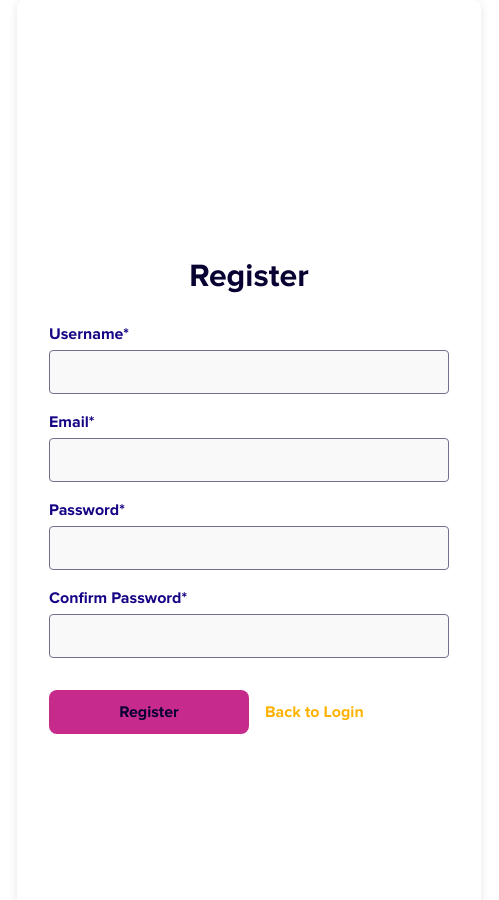
it: Register Component › validates form fields - empty fields
The width and height of the screenshot is (499, 900).
Click the button "Register" at (149, 712), box [49,690,249,734]
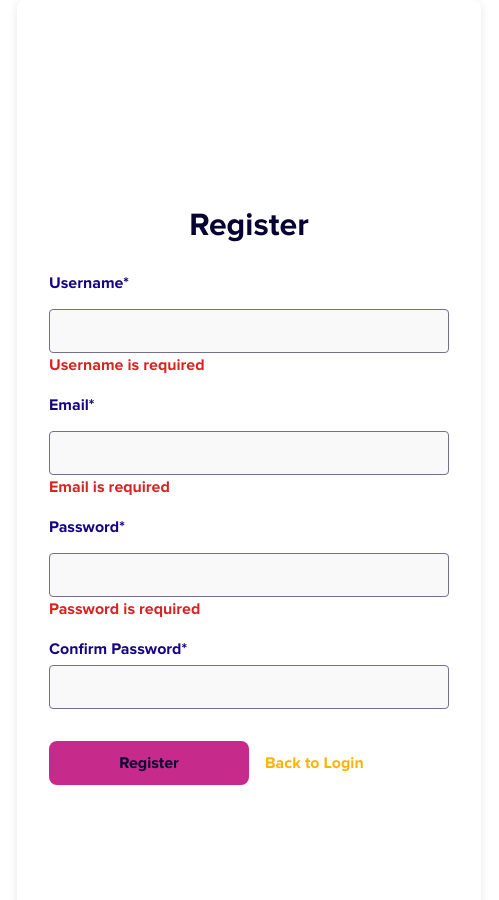
Expected: the text "Username is required" is shown, [49,355,204,375]
Expected: the text "Email is required" is shown, [49,477,170,497]
Expected: the text "Password is required" is shown, [49,599,200,619]
